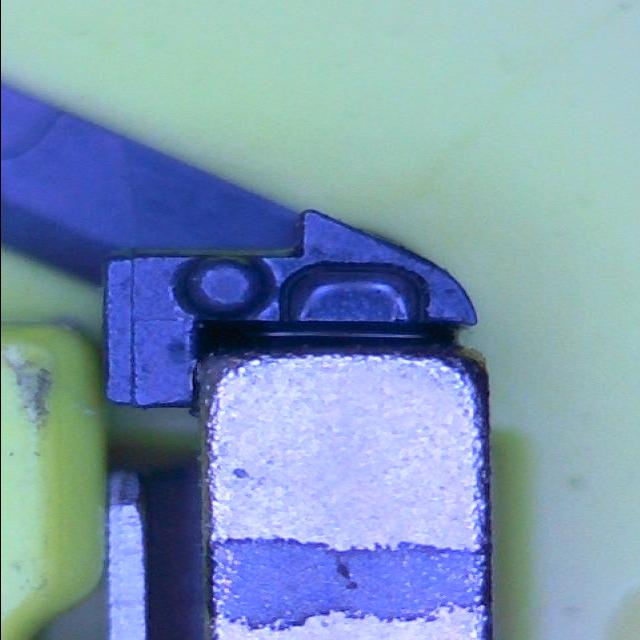good: (276, 260, 429, 332)
